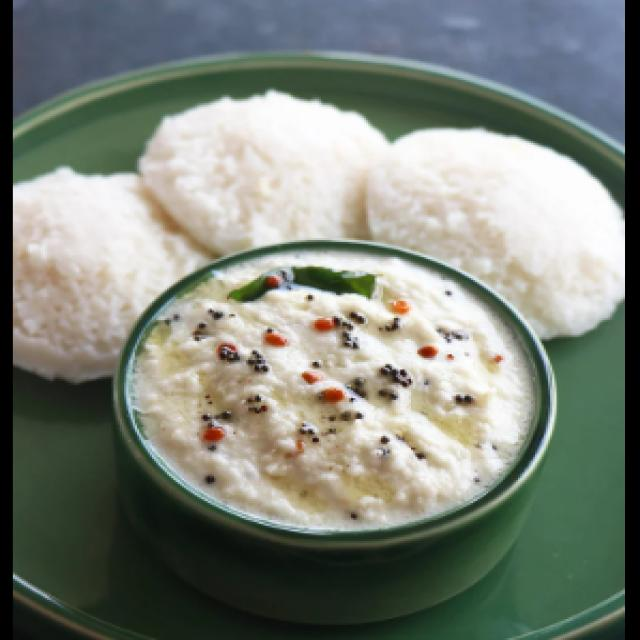coconut chutney: (172, 250, 536, 558)
